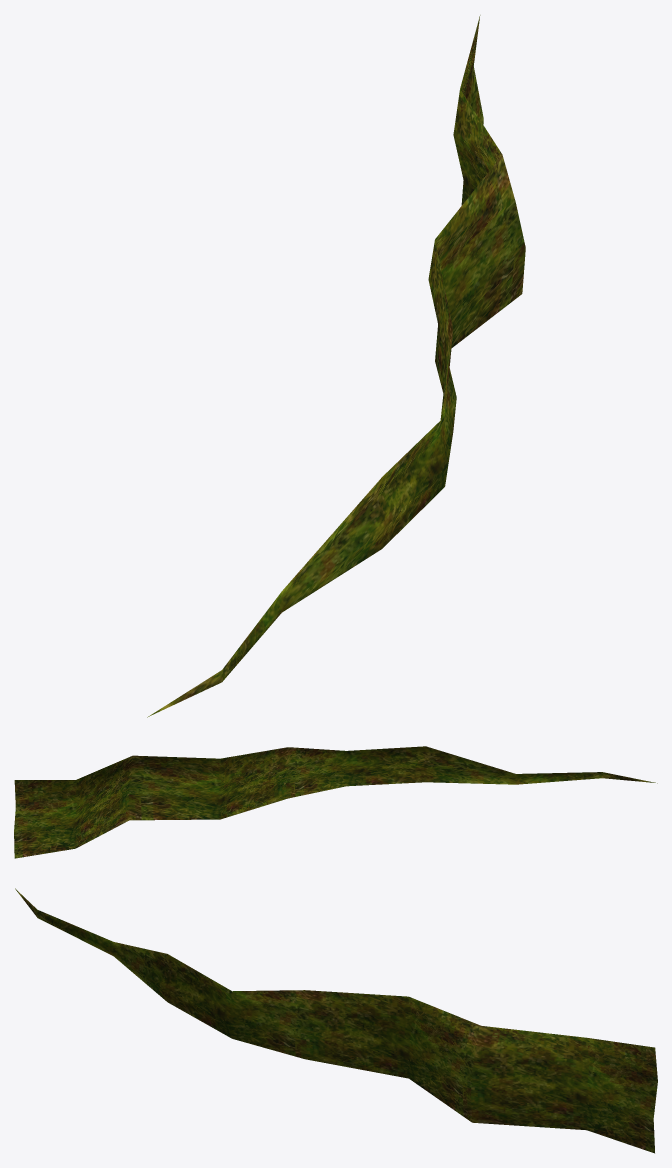
The model's file is TROLLHOLE02_RM_PSURF197.fbx.
3 views of the same model, one above another, from view 1: azimuth 30°, elevation 25°; view 2: azimuth 150°, elevation 25°; view 3: azimuth 270°, elevation 25° (orthographic). The views are drawn at different scales.
Visible parts, largest first — view 1: TROLLHOLE02_RM_PSURF197; view 2: TROLLHOLE02_RM_PSURF197; view 3: TROLLHOLE02_RM_PSURF197.
Boxes of the visible parts, x1,y1,x2,y2 form: TROLLHOLE02_RM_PSURF197: (147, 15, 525, 717); TROLLHOLE02_RM_PSURF197: (14, 746, 657, 858); TROLLHOLE02_RM_PSURF197: (15, 888, 657, 1153).
Bounding box in the file's own units: 227352 × 42113 × 231745.
Materials: 1 (1 with a texture image).
